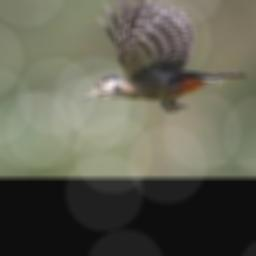Woodpecker: (75, 0, 245, 111)
